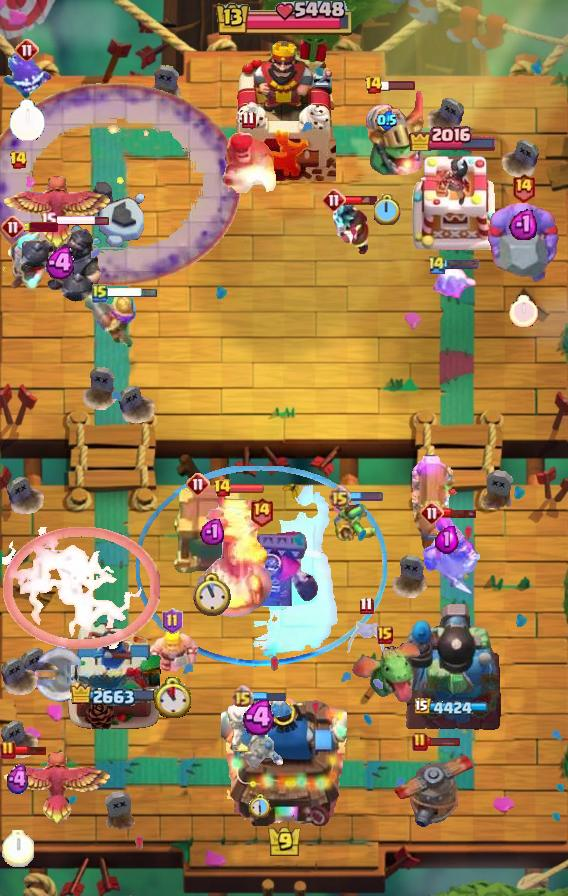archer: (144, 628, 200, 676)
archer-queen: (484, 202, 562, 284)
barbarian: (346, 619, 386, 657)
barbarian-evolution: (2, 527, 160, 649)
battle-healer: (411, 455, 457, 559)
bomb: (173, 487, 251, 575)
bomb-tower: (84, 290, 138, 350)
clock: (213, 1, 355, 39)
dark-prince: (388, 742, 478, 828)
electro-dragon: (195, 492, 273, 620)
electro-spirit: (241, 700, 278, 735), (45, 247, 79, 279), (509, 208, 537, 240), (4, 765, 32, 796), (435, 524, 459, 554), (200, 517, 224, 545), (377, 110, 397, 130)
electro-wizard: (348, 640, 422, 706)
elixir: (193, 573, 231, 617), (10, 99, 47, 142), (154, 678, 191, 719), (2, 830, 34, 867), (509, 295, 538, 328), (375, 195, 402, 225), (248, 793, 271, 819)
elixir-golem-big: (414, 515, 480, 595)
emote: (54, 214, 109, 227), (105, 286, 159, 299), (380, 79, 416, 91), (344, 194, 380, 206), (348, 490, 384, 502), (442, 507, 478, 519), (252, 690, 288, 702), (426, 736, 462, 748), (444, 259, 480, 270), (229, 483, 265, 494), (12, 745, 48, 756), (22, 222, 58, 232)
giant-snowball: (332, 500, 380, 542)
golden-knight: (0, 174, 112, 252), (0, 750, 112, 828)
inferno-tower: (201, 528, 321, 606)
king-tower: (221, 690, 347, 826), (232, 39, 336, 181)
lumberjack: (327, 197, 373, 257)
mini-pekka: (224, 697, 296, 773)
mirror: (428, 266, 478, 304)
mortar: (5, 229, 49, 295)
night-witch: (346, 85, 428, 179)
pad_0: (134, 466, 388, 668)
phoenix-small: (219, 129, 277, 193)
queen-tower: (65, 617, 163, 731), (407, 150, 499, 256)
rocket: (0, 83, 240, 287)
royal-giant: (28, 646, 84, 704)
royal-guardian: (19, 220, 105, 306)
selected: (408, 123, 498, 151), (70, 683, 158, 709), (416, 698, 493, 718)
spear-goblin: (1, 53, 53, 99)
text: (511, 172, 536, 203), (250, 497, 275, 528), (15, 38, 39, 62), (322, 188, 346, 212), (1, 215, 25, 239), (186, 472, 210, 496), (420, 501, 444, 525), (162, 608, 183, 634), (329, 484, 352, 507), (230, 685, 253, 708), (427, 253, 447, 275), (8, 150, 28, 170), (212, 478, 232, 498), (365, 75, 384, 95), (39, 211, 57, 230), (92, 283, 108, 303), (412, 732, 428, 752), (0, 740, 16, 760), (377, 626, 393, 644), (241, 111, 256, 130), (359, 596, 373, 615)
tower-bar: (403, 601, 503, 731)
